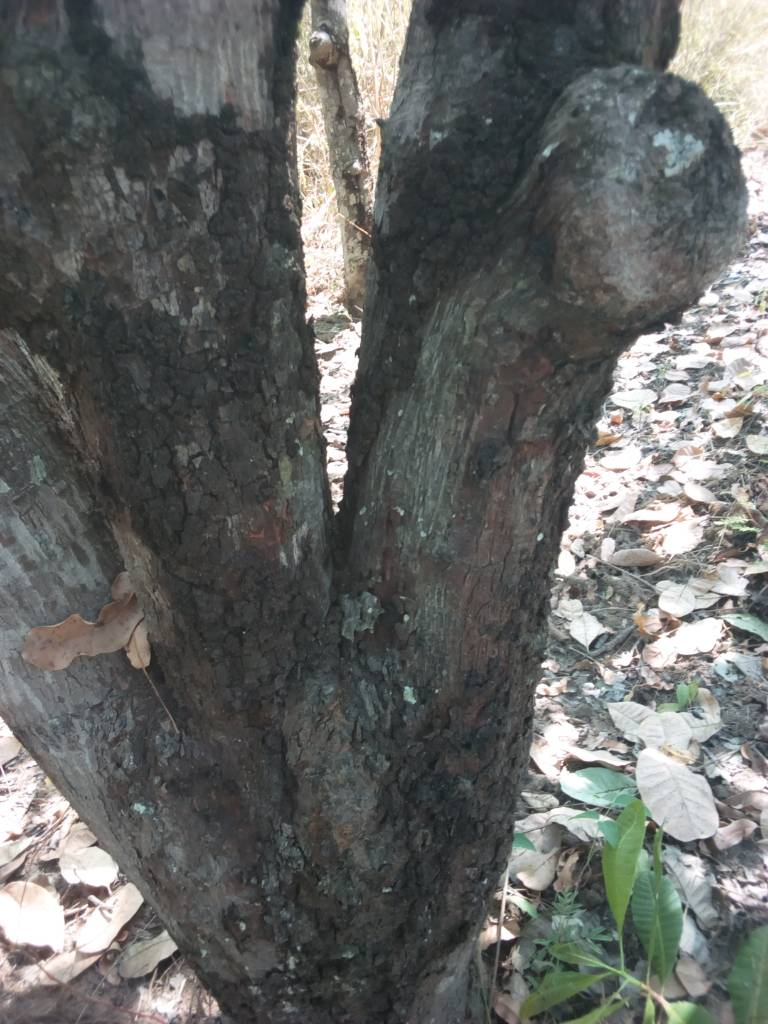Termites: (94, 274, 299, 821), (399, 647, 504, 1013)
